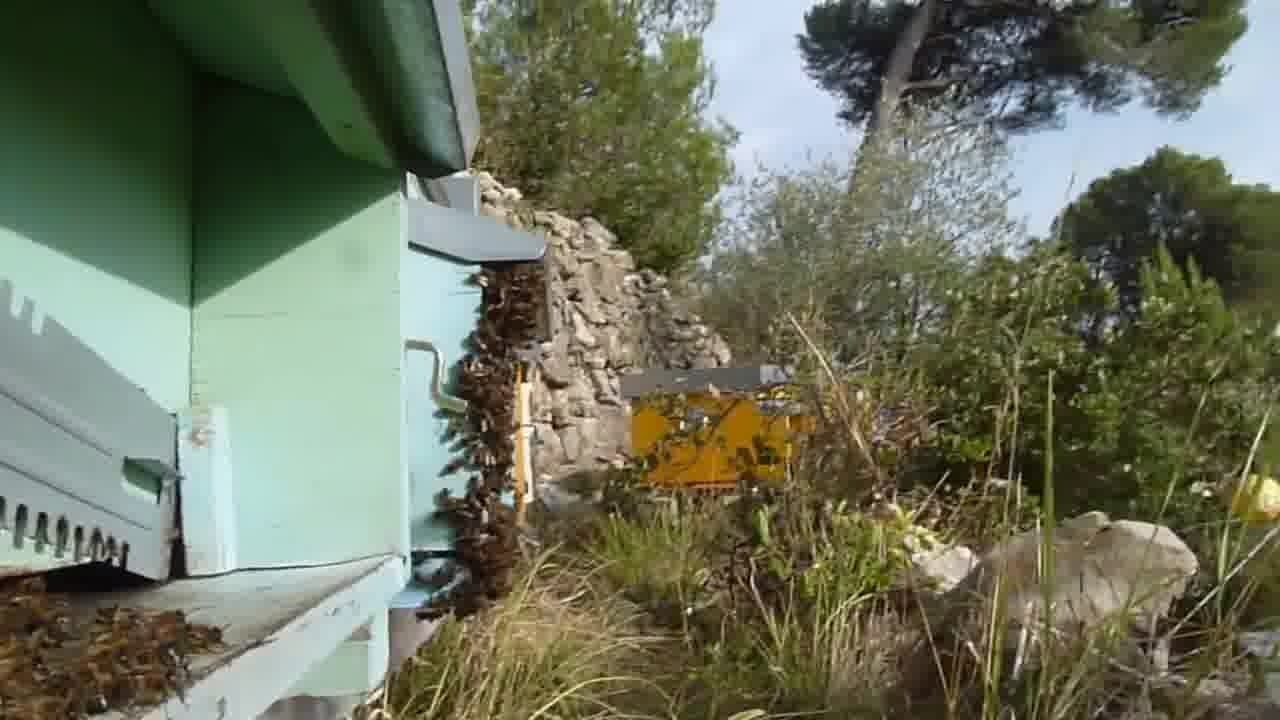bee: (6, 587, 133, 720), (423, 463, 518, 583), (465, 260, 542, 347), (449, 354, 514, 452), (128, 636, 199, 701)
